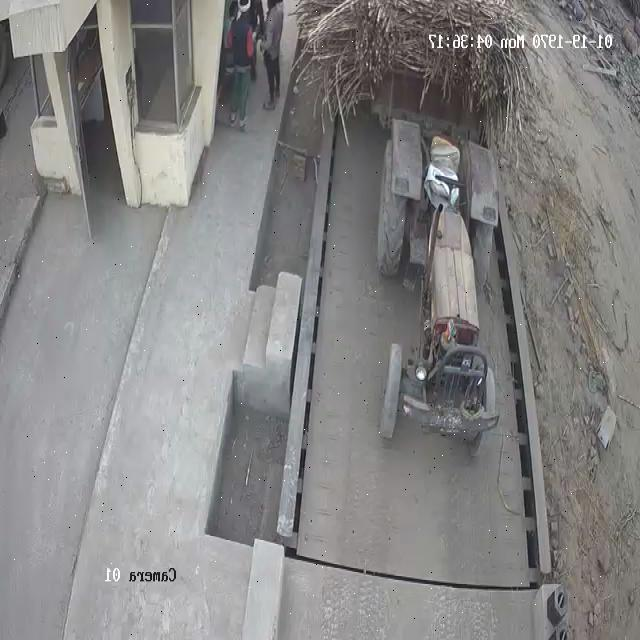Tratores - v5 YOLO V8L 2024-11-13: (378, 140, 498, 450)
